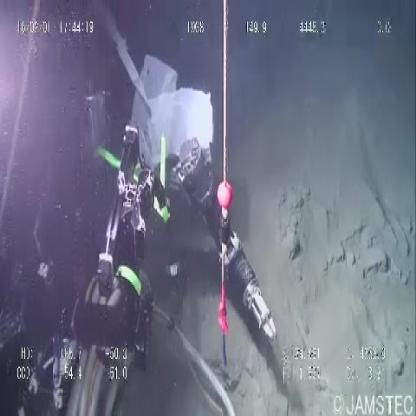Rov: (2, 16, 280, 412)
Rác: (119, 47, 219, 176)
